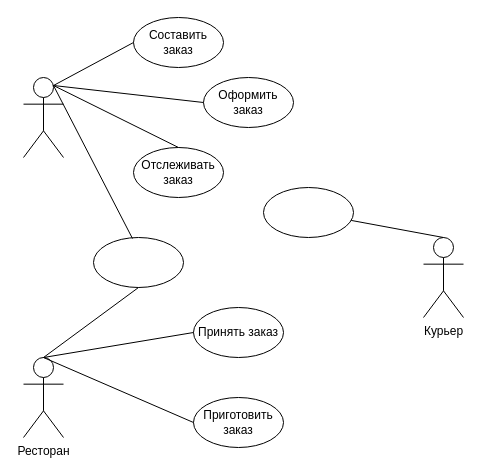
Image size: 481x476. Some labels were removed from this diagram. Here are the shapes that lost their labels. From the top down, the box of each, then its label:
(22, 76, 64, 158): Клиент
(262, 186, 354, 238): Доставить заказ
(92, 236, 184, 288): Отменить заказ
